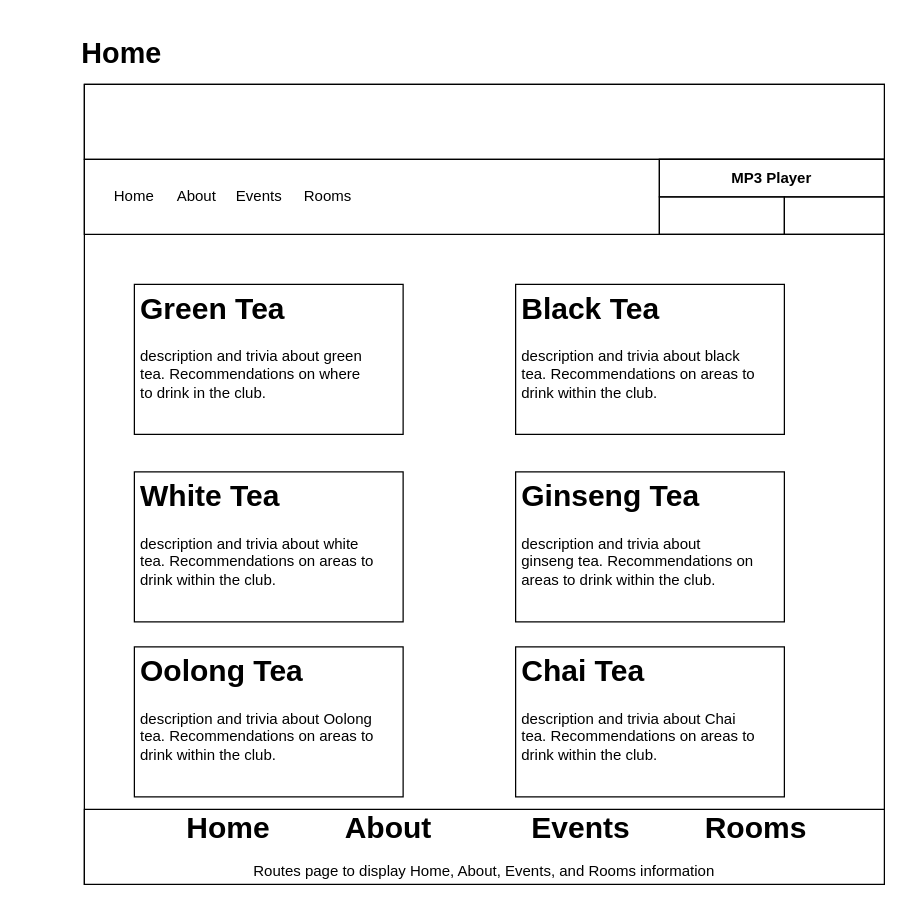
Image size: 906x906. Some labels were removed from this diagram. The centre of each missing label's shape, as x and y in pixels:
Lofi Chai: (x=483, y=121)
Skip/Pause/Play: (x=721, y=215)
Volume Slider: (x=833, y=215)
